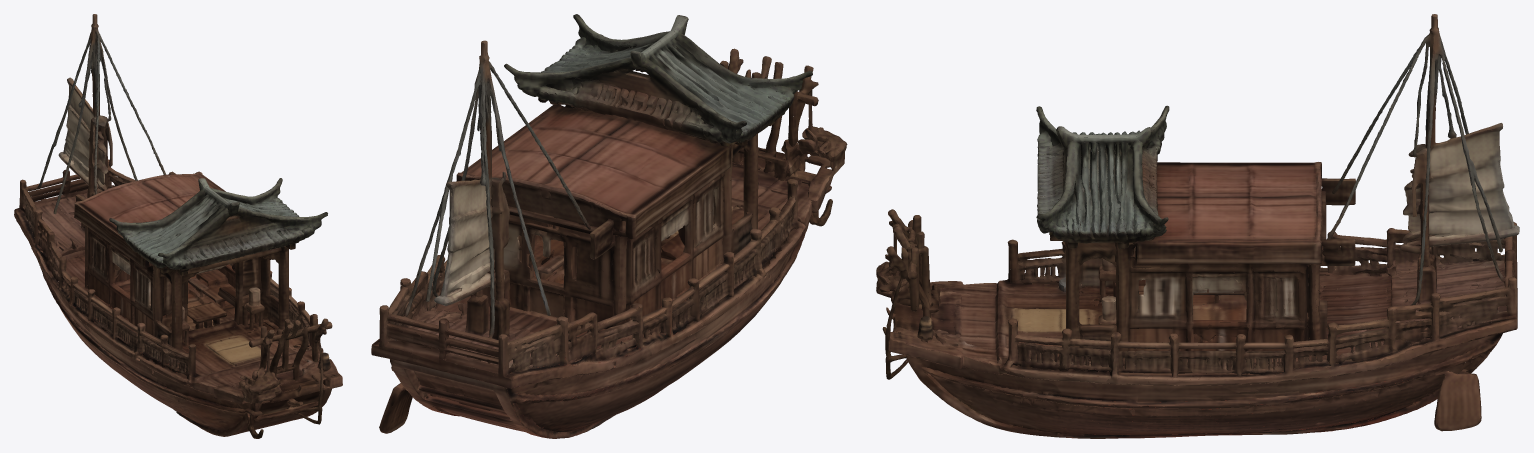
The model's file is passenger-boat.glb.
The picture shows the model from 3 angles, left to right: view 1: azimuth 30°, elevation 25°; view 2: azimuth 150°, elevation 25°; view 3: azimuth 270°, elevation 25°; orthographic projection. The views are drawn at different scales.
Parts seen in each view (by area): view 1: world; view 2: world; view 3: world.
Boxes of the visible parts, x1=… form: world: x1=14, y1=14, x2=342, y2=438; world: x1=371, y1=14, x2=847, y2=438; world: x1=876, y1=14, x2=1519, y2=438.
Bounding box in the file's own units: 0.6002 × 0.9989 × 1.46.
1 material, 1 textured.
